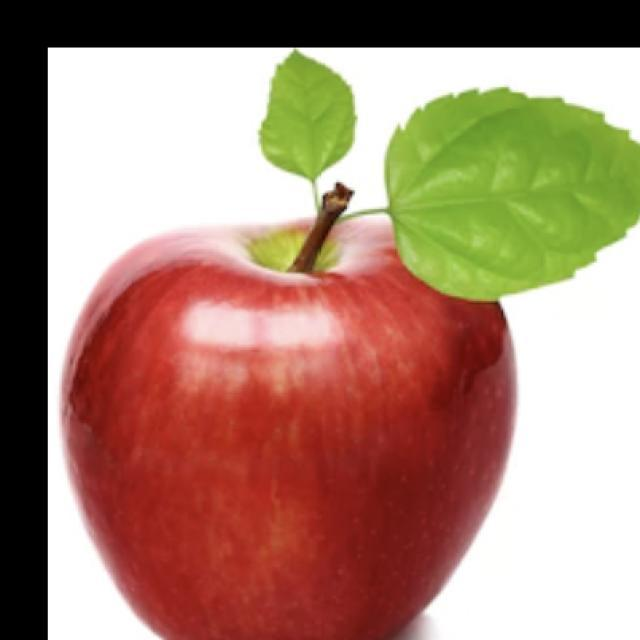Fresh Apple: (93, 210, 490, 628)
